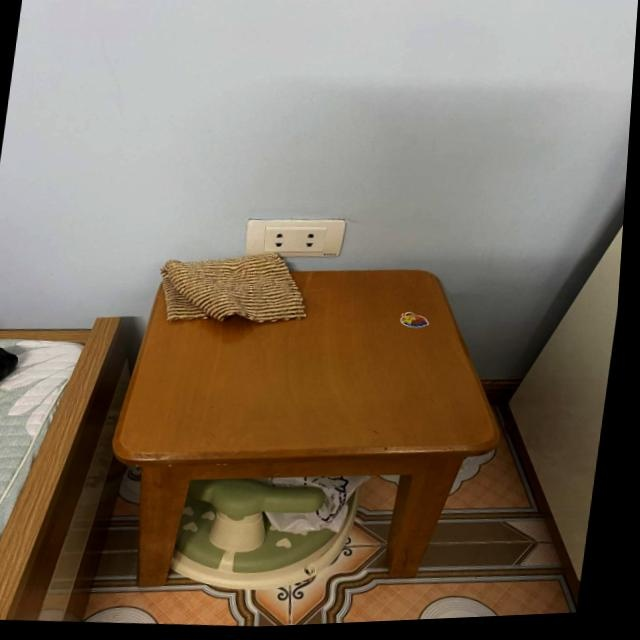outlet: (241, 211, 347, 263)
